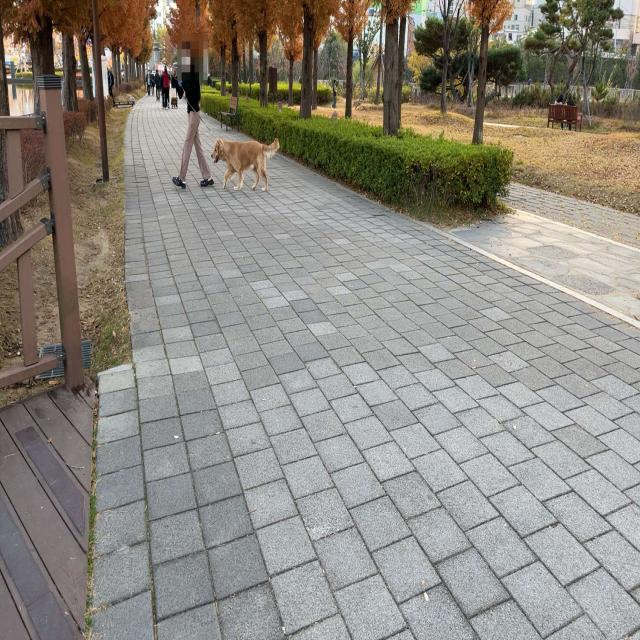Leashed_Dog: (190, 107, 280, 193)
